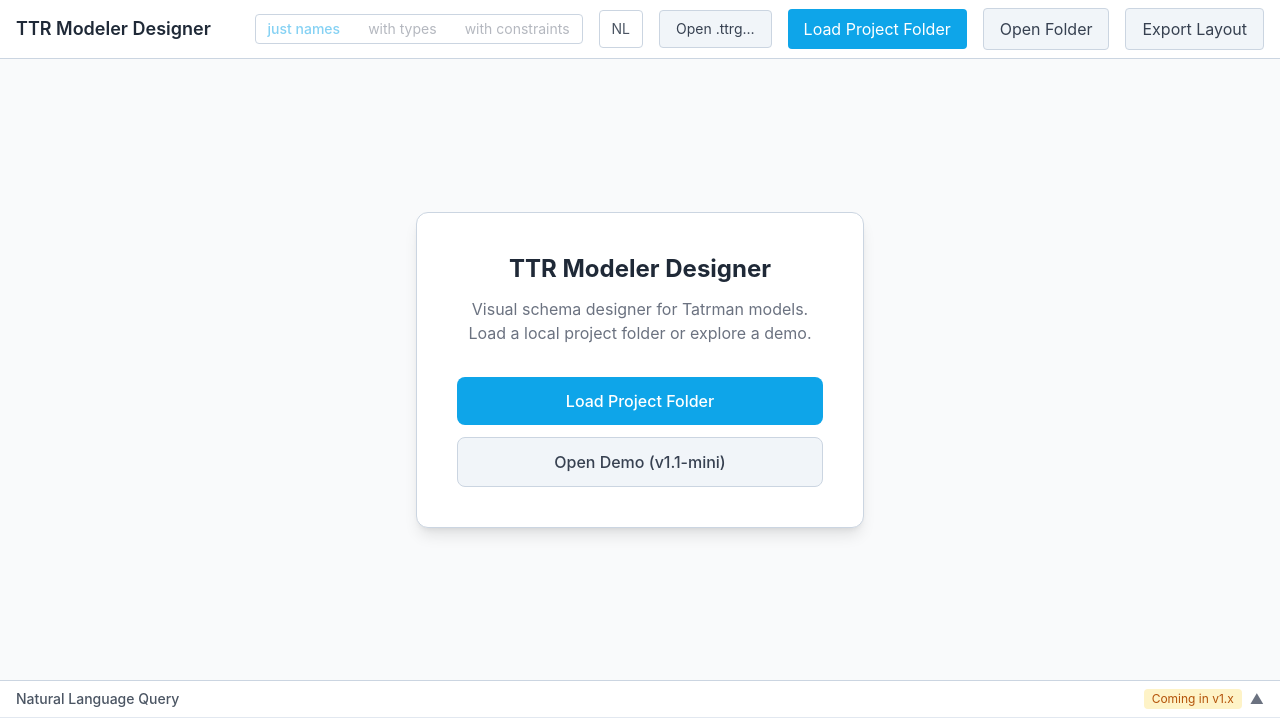
Test case: E4.8 — Layout persistence v1.1 (per-graph, wire-path tests) › H2.1 — Layout loaded via getGraph, not via getLayout › a saved layout from getGraph.layout is RESTORED on open (viewport displayMode applied)
This screenshot has width=1280, height=720.
Check: the button "Export Layout" is shown, box [1126,8,1264,50]
Click the button titled "open project folder": (1046, 29) [983,8,1110,50]
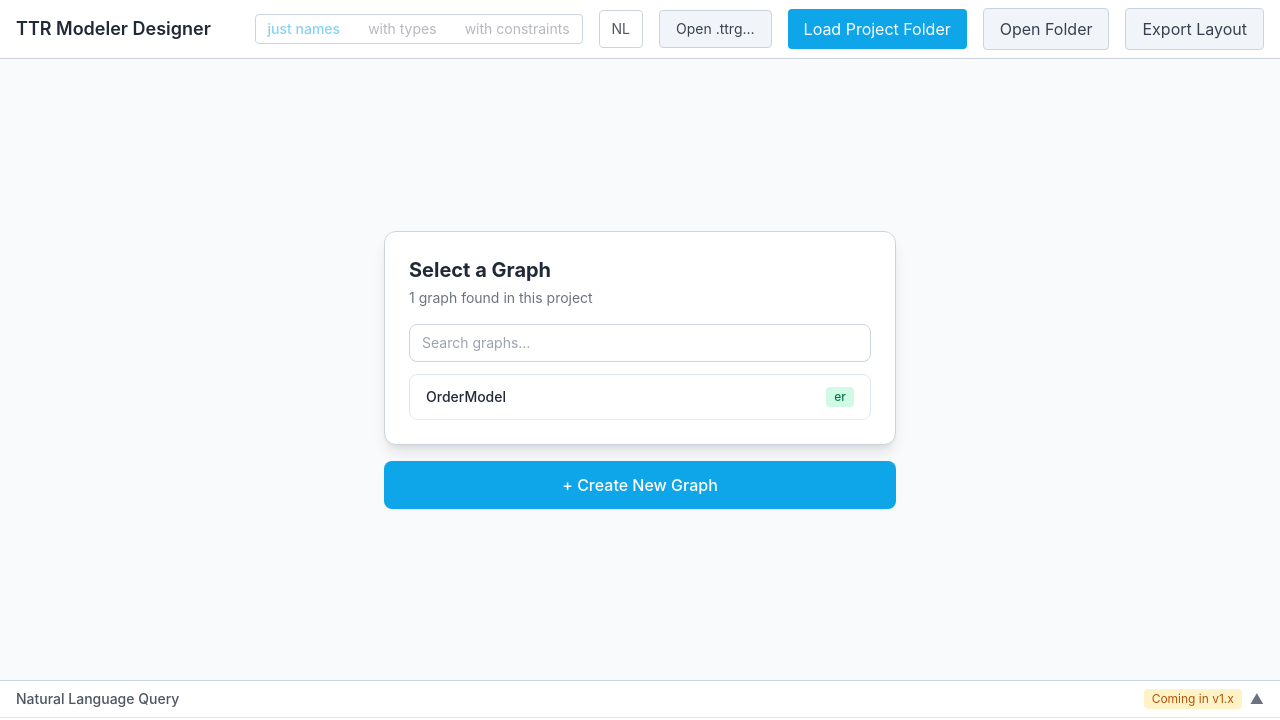
Click the text "OrderModel": (466, 396) [426,386,506,406]
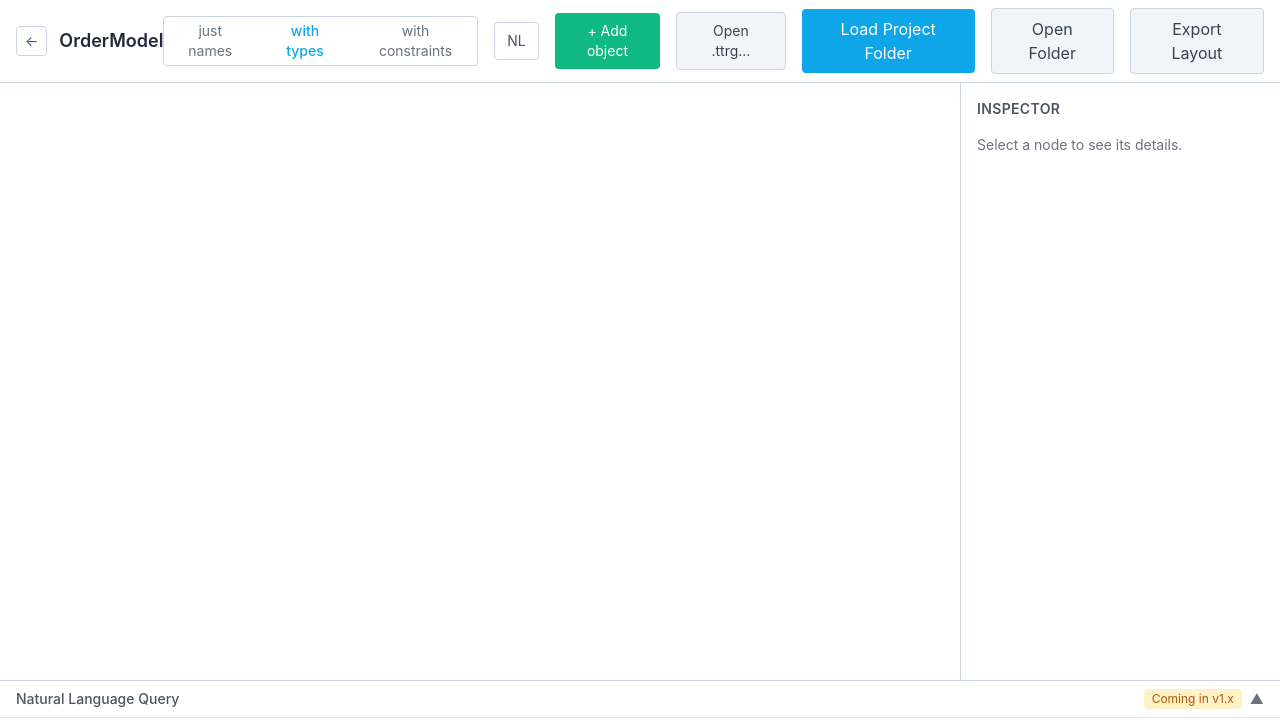
Check: the button "+ Add object" is shown, box [555,13,660,69]
